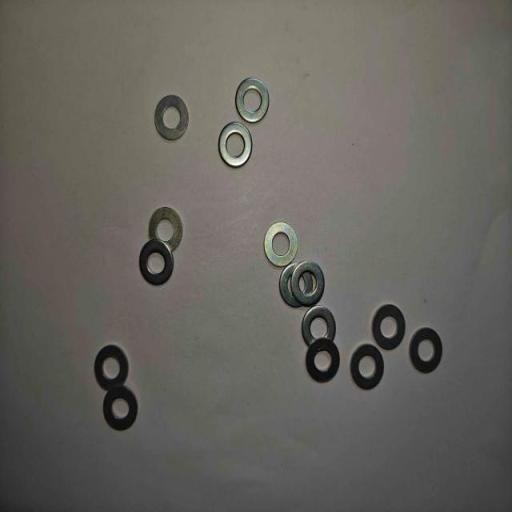Washer: (92, 343, 130, 393), (233, 76, 271, 125), (407, 326, 445, 375), (101, 384, 139, 433), (348, 343, 386, 391), (147, 205, 184, 254), (303, 337, 341, 384), (153, 94, 190, 142), (217, 121, 254, 169), (138, 238, 175, 286), (370, 303, 407, 351), (262, 221, 299, 268), (301, 306, 338, 353), (290, 260, 326, 308), (278, 262, 313, 309)
